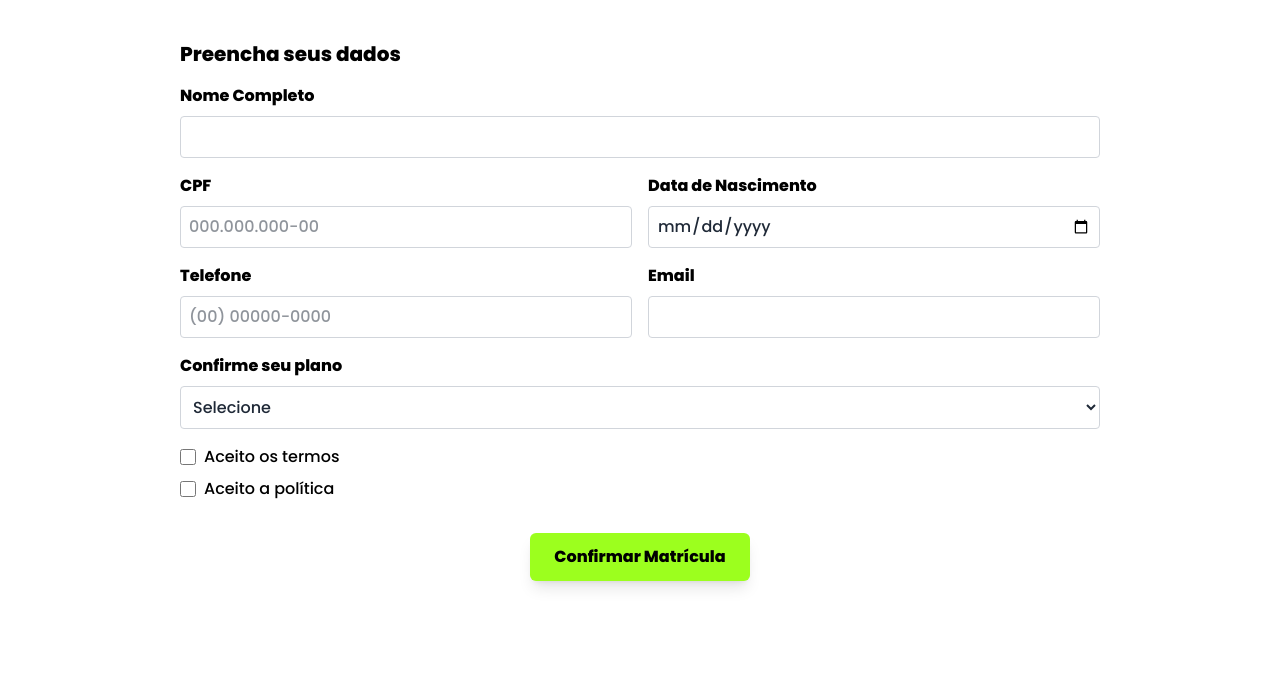
Test: EnrollmentForm › exibe erros de validação ao submeter vazio
Click the button "Confirmar Matrícula": (640, 557) [530,533,750,581]
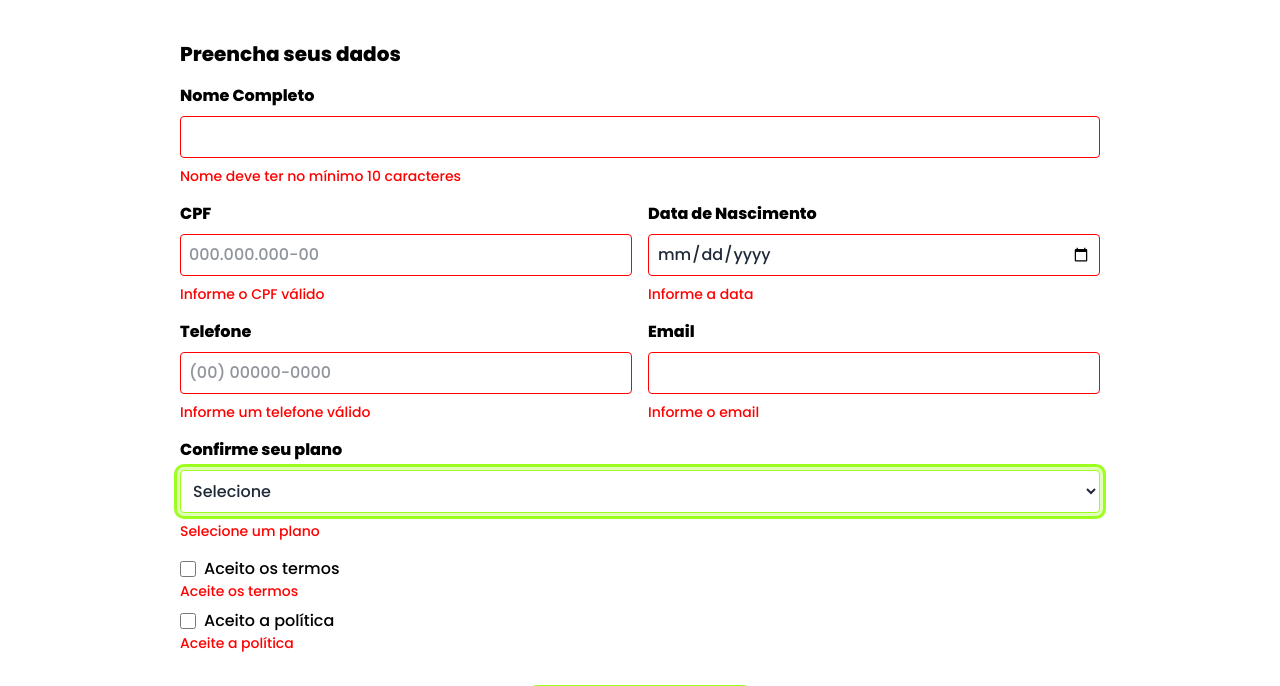
Expected: the text "Nome deve ter no mínimo 10 caracteres" is shown, [180,166,461,186]
Expected: the text "Informe o CPF válido" is shown, [180,284,324,304]
Expected: the text "Aceite os termos" is shown, [180,581,298,601]
